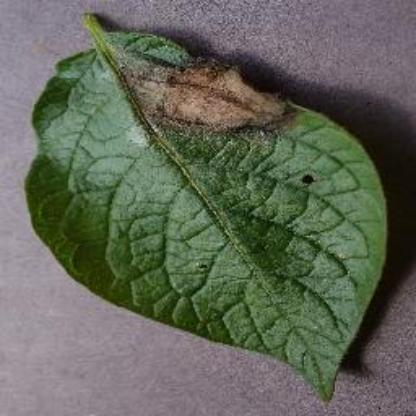Late-Blight: (18, 6, 408, 394)
